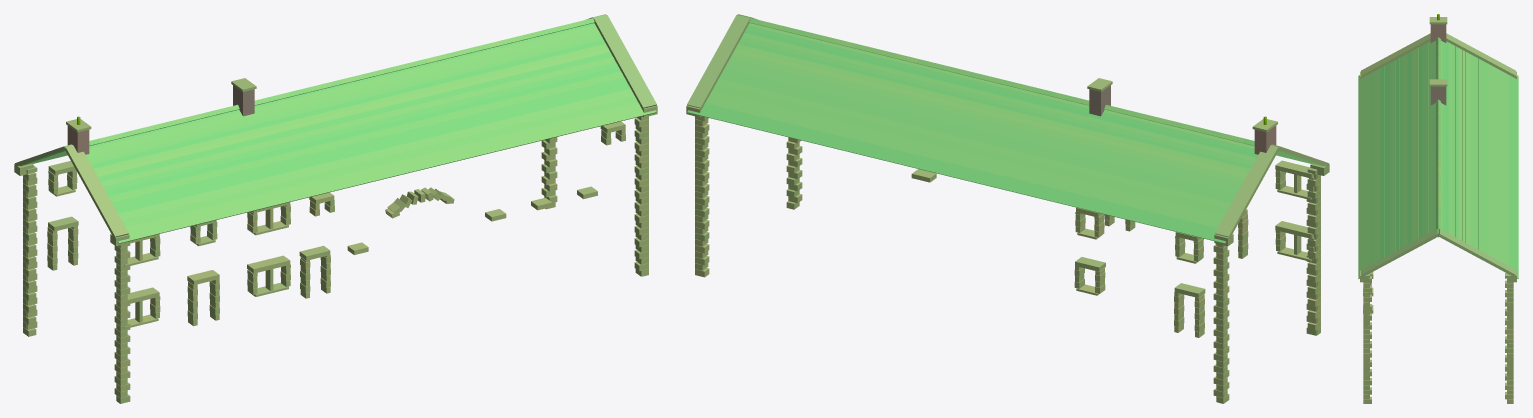
Rendered from SM_Bld_209_Stone.glb.
3 views of the same model, side by side, from view 1: azimuth 30°, elevation 25°; view 2: azimuth 150°, elevation 25°; view 3: azimuth 270°, elevation 25° (orthographic). The views are drawn at different scales.
Parts seen in each view (by area): view 1: SM_Bld_209_Stone; view 2: SM_Bld_209_Stone; view 3: SM_Bld_209_Stone.
Part boxes in pixels (x1,y1,x2,y2): SM_Bld_209_Stone: (14,14,657,403); SM_Bld_209_Stone: (686,14,1329,403); SM_Bld_209_Stone: (1358,14,1518,403).
Size of the model in its own units: 28.36 by 12.46 by 9.41.
